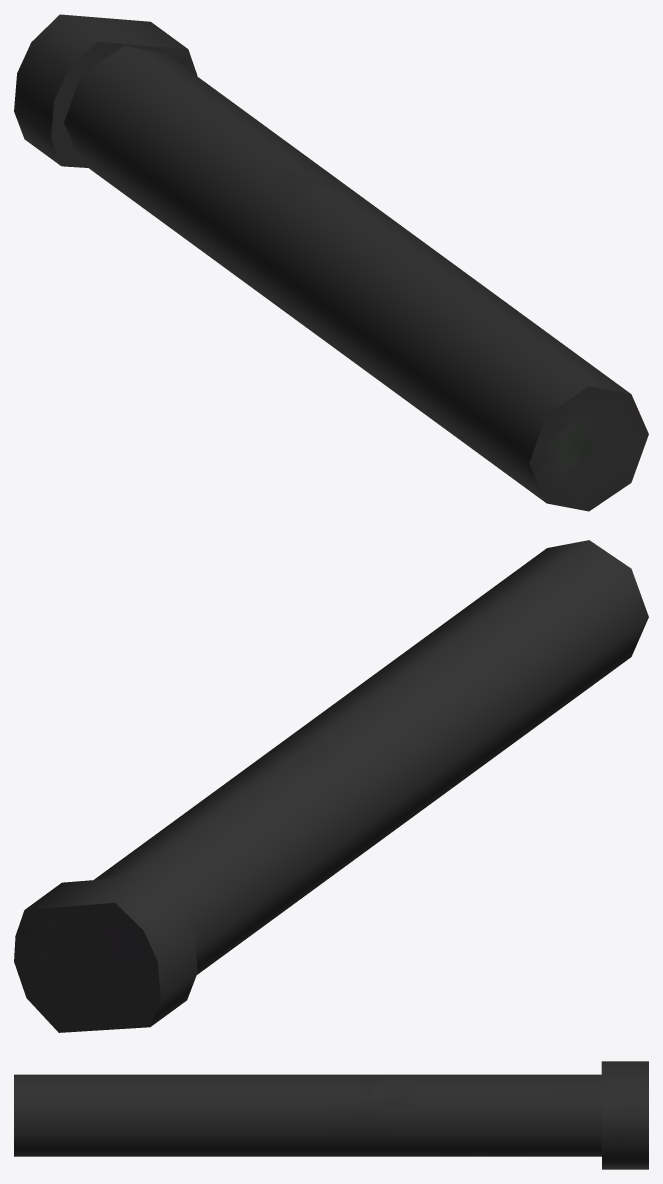
Rendered from arm_2_bar_2.dae.
3 renders of one model, top to bottom at view 1: azimuth 30°, elevation 25°; view 2: azimuth 150°, elevation 25°; view 3: azimuth 270°, elevation 25°, orthographic. The views are drawn at different scales.
Visible parts, largest first — view 1: arm_2_bar_2; view 2: arm_2_bar_2; view 3: arm_2_bar_2.
Boxes of the visible parts, x1,y1,x2,y2 form: arm_2_bar_2: (14,14,648,511); arm_2_bar_2: (14,540,648,1032); arm_2_bar_2: (14,1061,648,1169).
Bounding box in the file's own units: 0.00686 × 0.0405 × 0.00643.
